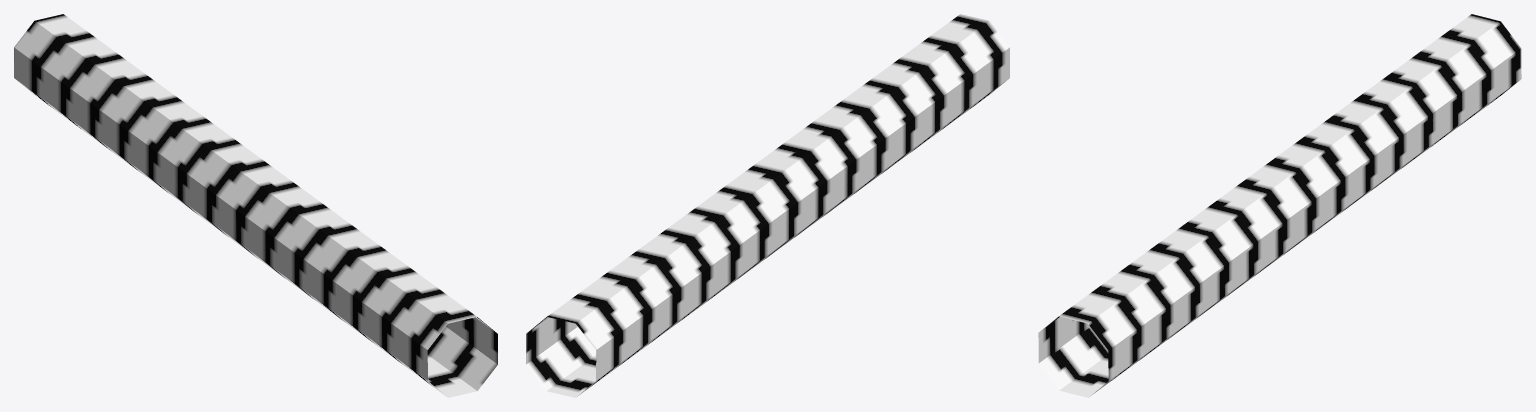
The model's file is shooter_spring.obj.
The picture shows the model from 3 angles, left to right: view 1: azimuth 30°, elevation 25°; view 2: azimuth 150°, elevation 25°; view 3: azimuth 330°, elevation 25°; orthographic projection.
Visible parts, largest first — view 1: Cylinder_Cylinder.001; view 2: Cylinder_Cylinder.001; view 3: Cylinder_Cylinder.001.
Boxes of the visible parts, x1,y1,x2,y2 form: Cylinder_Cylinder.001: (14, 14, 497, 397); Cylinder_Cylinder.001: (526, 14, 1009, 397); Cylinder_Cylinder.001: (1038, 14, 1521, 397).
Size of the model in its own units: 0.2496 by 0.2538 by 2.55.
1 material, 1 textured.
